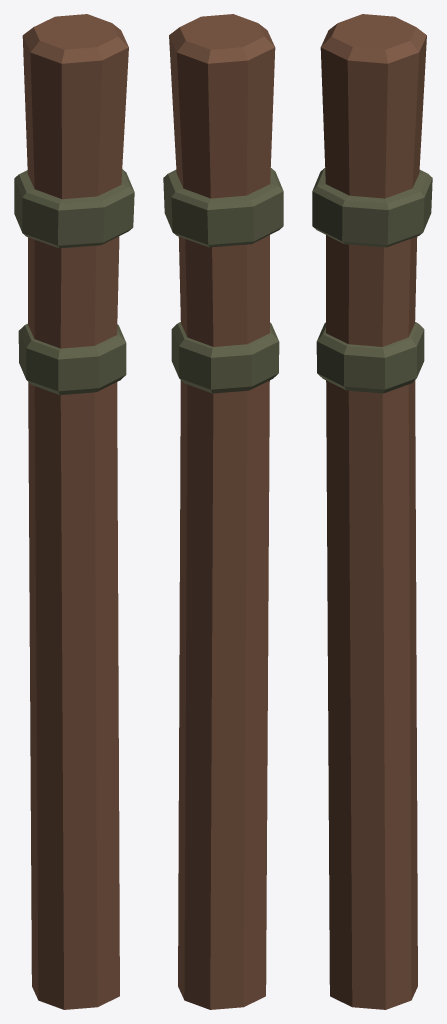
File: FencePost.fbx
The picture shows the model from 3 angles, left to right: view 1: azimuth 30°, elevation 25°; view 2: azimuth 210°, elevation 25°; view 3: azimuth 330°, elevation 25°; orthographic projection.
Visible parts, largest first — view 1: fence post; view 2: fence post; view 3: fence post.
Boxes of the visible parts, x1,y1,x2,y2 form: fence post: (14,14,134,1009); fence post: (163,14,283,1009); fence post: (312,14,432,1009).
Bounding box in the file's own units: 277 × 2440 × 277.
